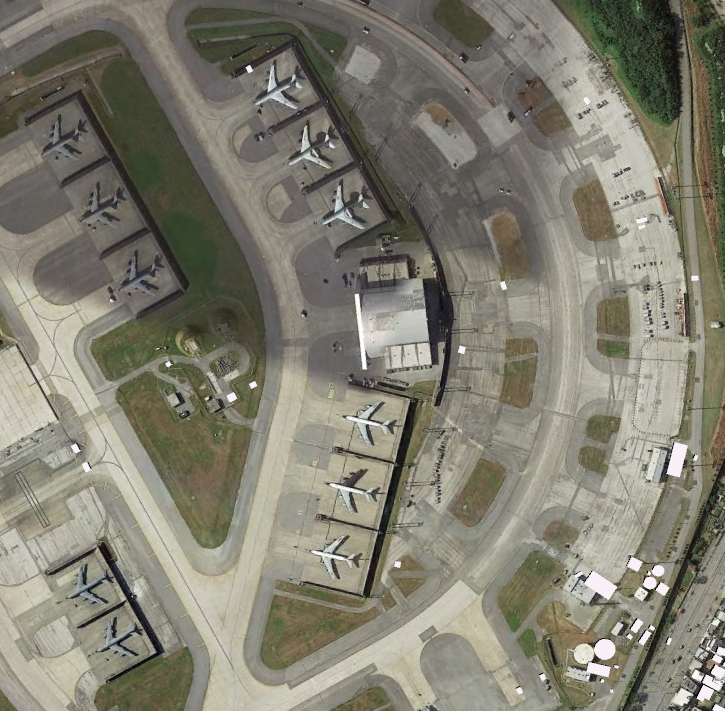A11: (250, 59, 313, 115), (339, 395, 402, 451), (323, 462, 386, 518), (303, 530, 366, 582)
A14: (37, 110, 94, 165), (72, 180, 129, 235), (112, 246, 169, 301), (61, 556, 118, 611), (88, 612, 145, 667)
A7: (284, 119, 341, 174), (315, 179, 372, 234)
